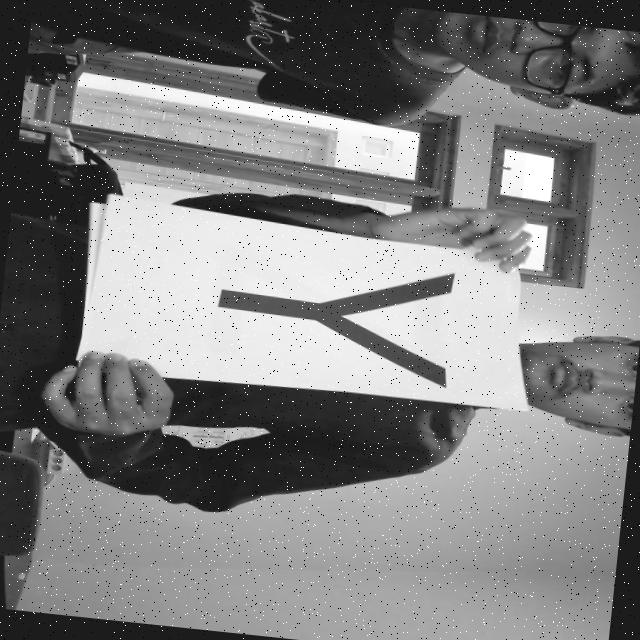y: (197, 241, 470, 394)
